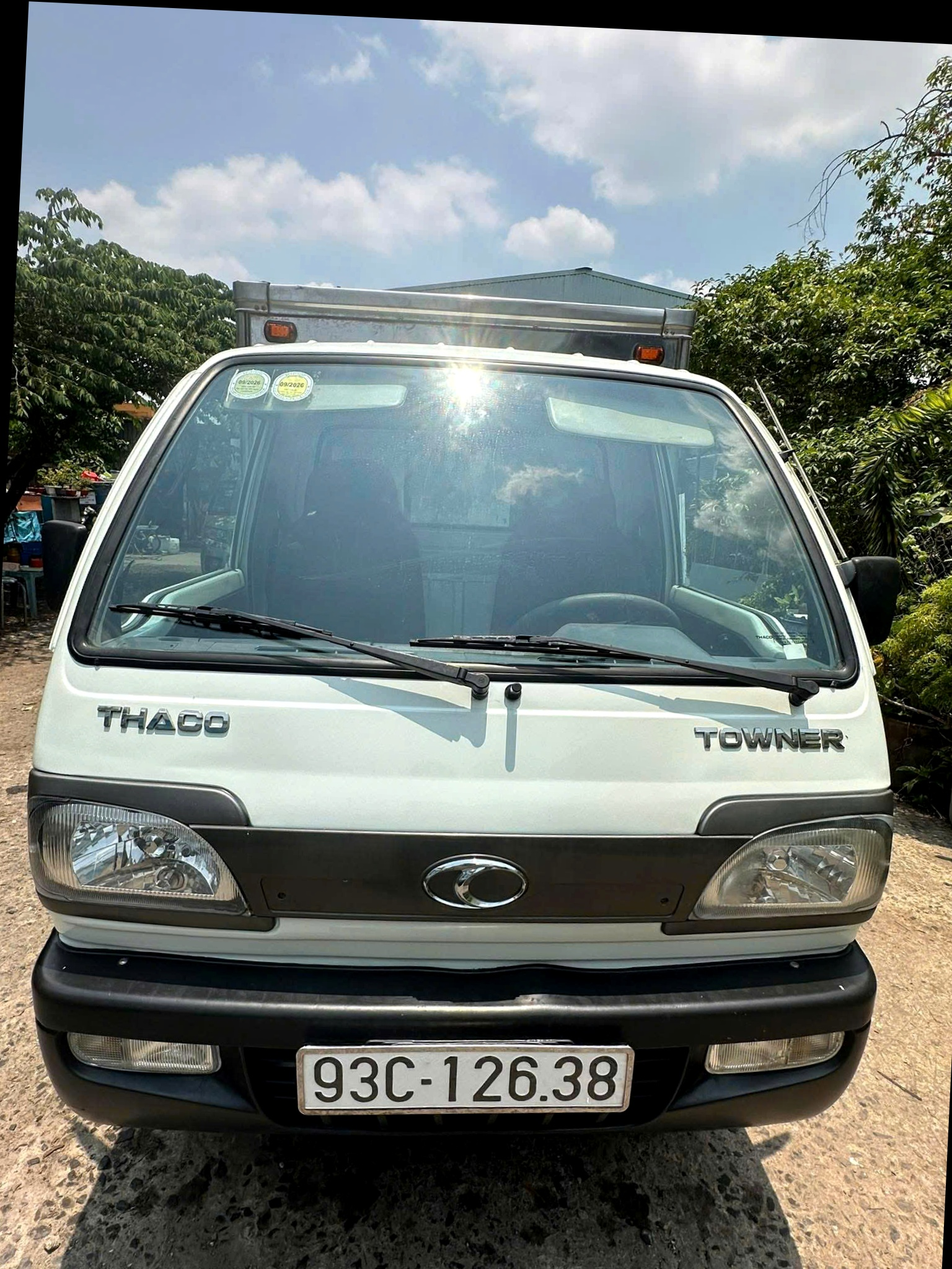Bien-so: (300, 974, 612, 1084)
